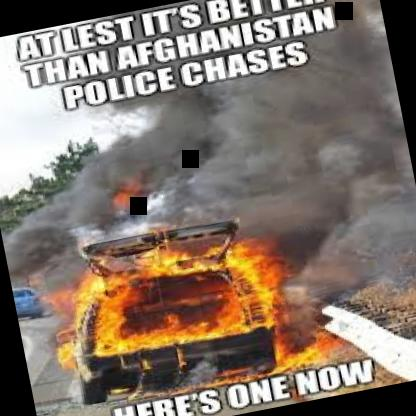fire: (73, 207, 312, 398)
